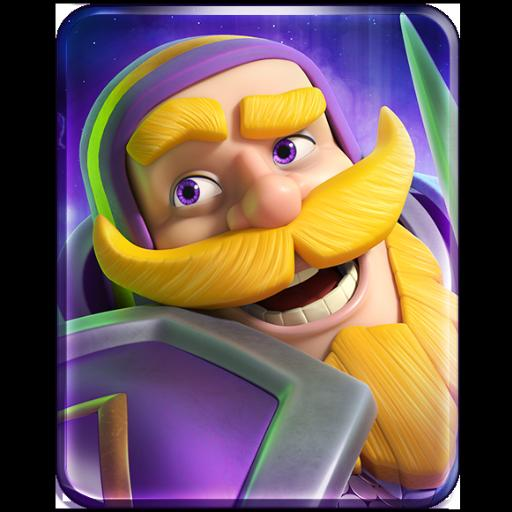knight-evo: (68, 16, 450, 500)
